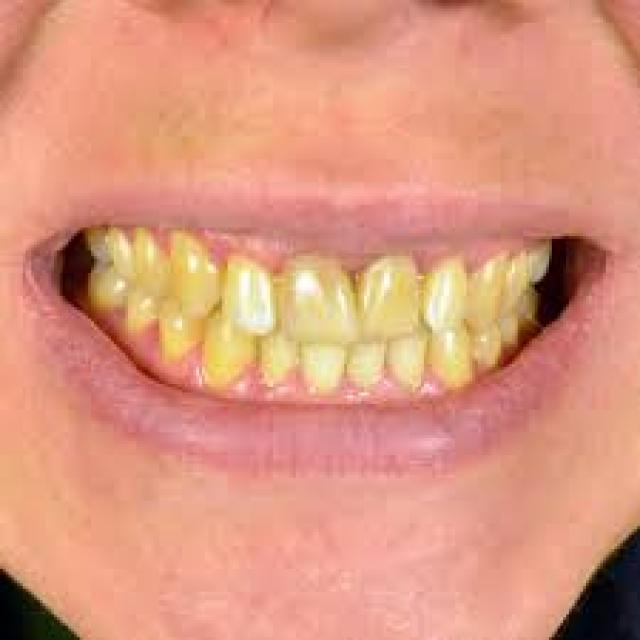Tooth Discoloration: (84, 234, 547, 378)
